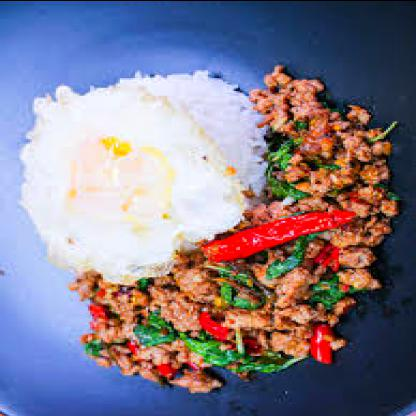Basil Rice: (41, 35, 401, 382)
